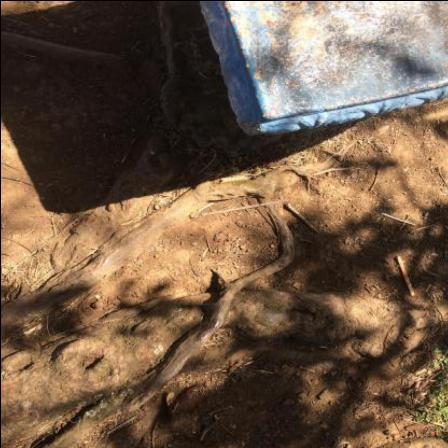Straw: (203, 200, 289, 216)
Unlabeled litter: (382, 213, 416, 225)
